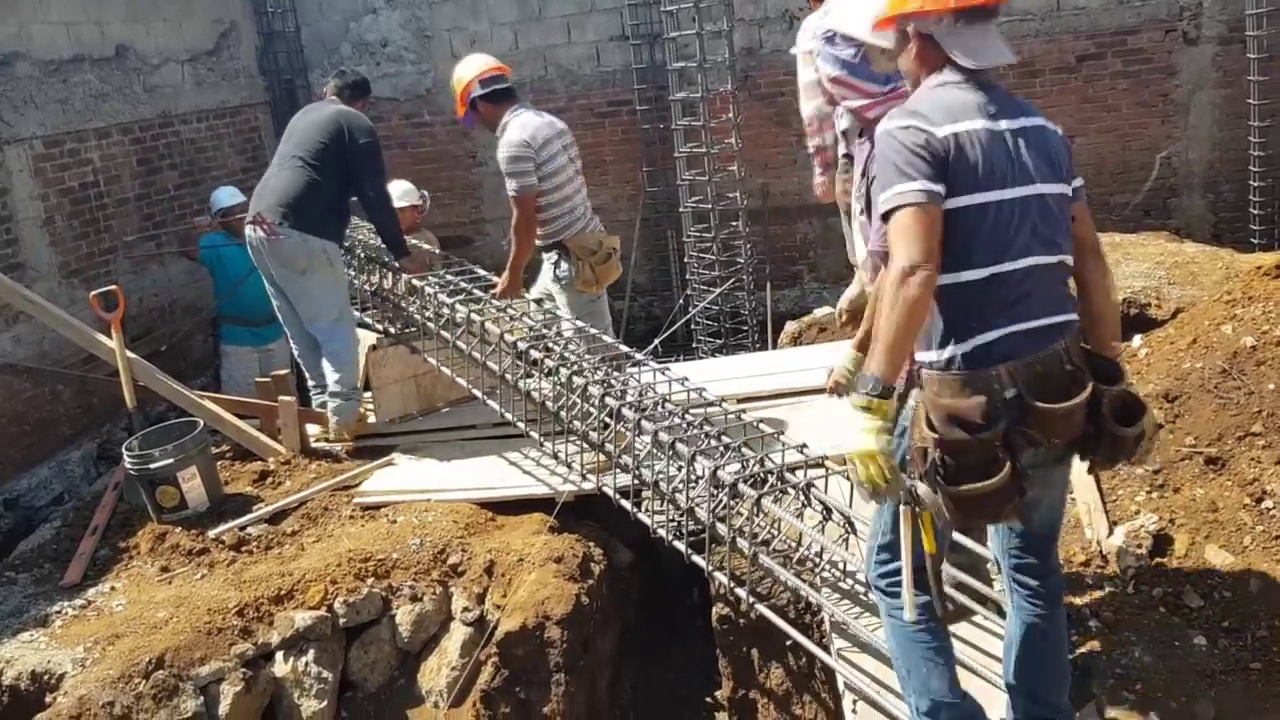helmet: (447, 51, 510, 115), (207, 186, 247, 216), (386, 178, 421, 210)
helmet-off: (319, 70, 372, 114)
helmet-on: (799, 3, 917, 134), (873, 0, 1005, 99), (448, 50, 527, 139), (384, 179, 425, 239), (207, 186, 248, 238)
person: (831, 0, 1115, 715), (241, 67, 413, 438), (807, 0, 952, 409), (446, 49, 612, 373), (185, 174, 288, 395), (376, 176, 444, 271)
